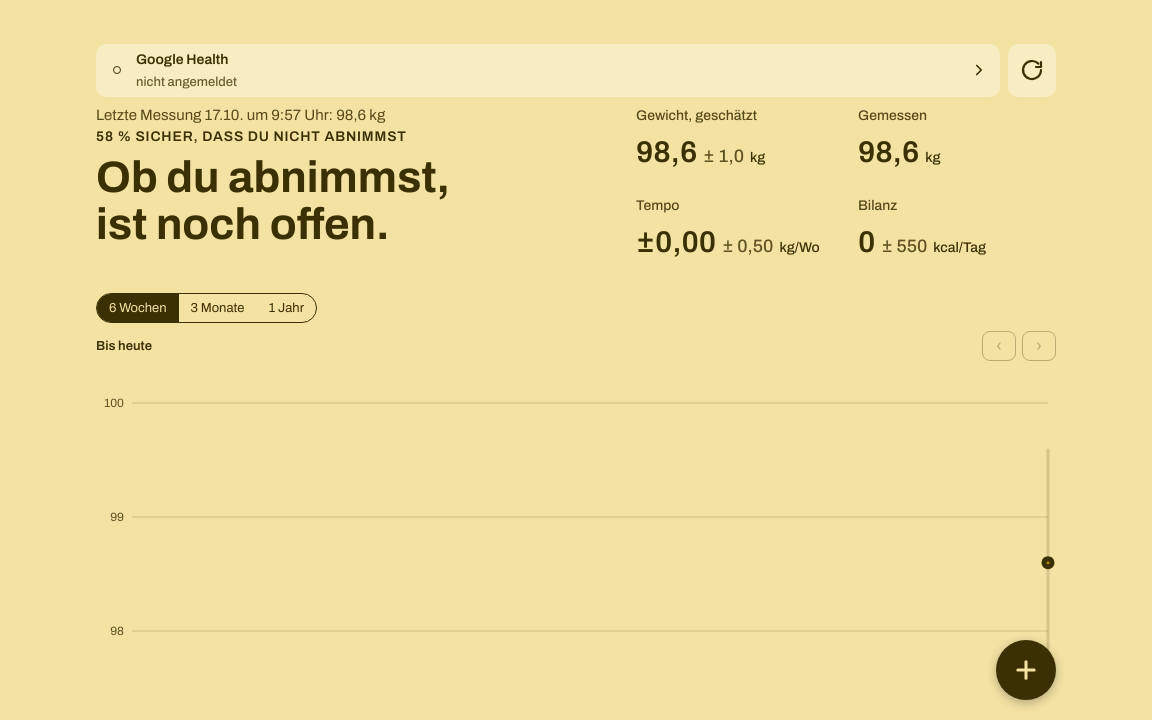
Test: fetching › with a cache from before the whole history was fetched › shows the cache and says it fetches while it gets them
Click the button named "Anmelden und abrufen": click(1032, 70) [1008,44,1056,97]
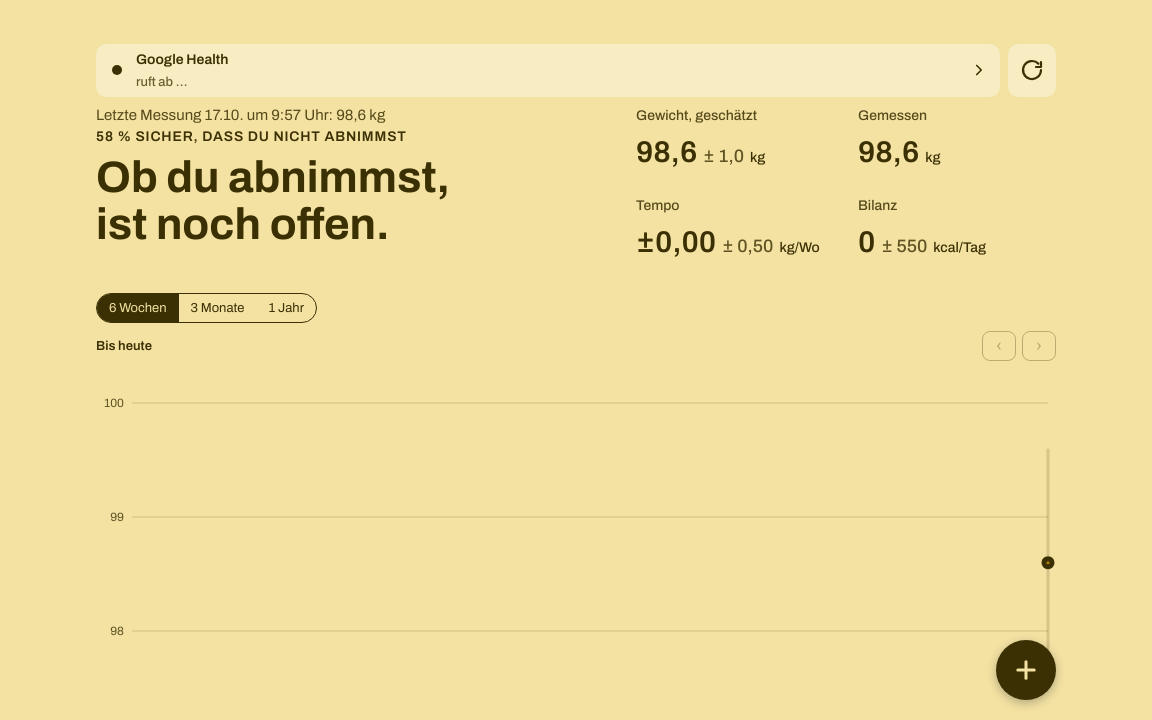
Expected: the text "Letzte Messung 17.10. um 9:57 Uhr: 98,6 kg" is shown, [96,107,385,123]
Now the text "ruft ab …" is shown, box [136,75,187,89]
